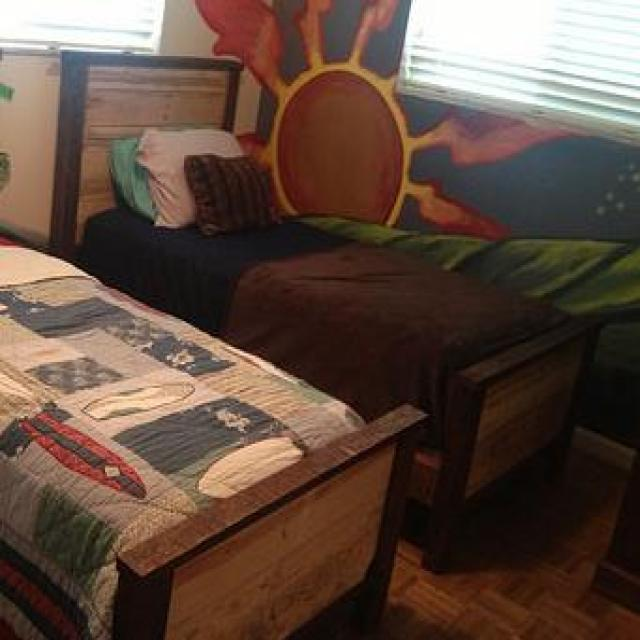bed: (49, 45, 602, 573)
